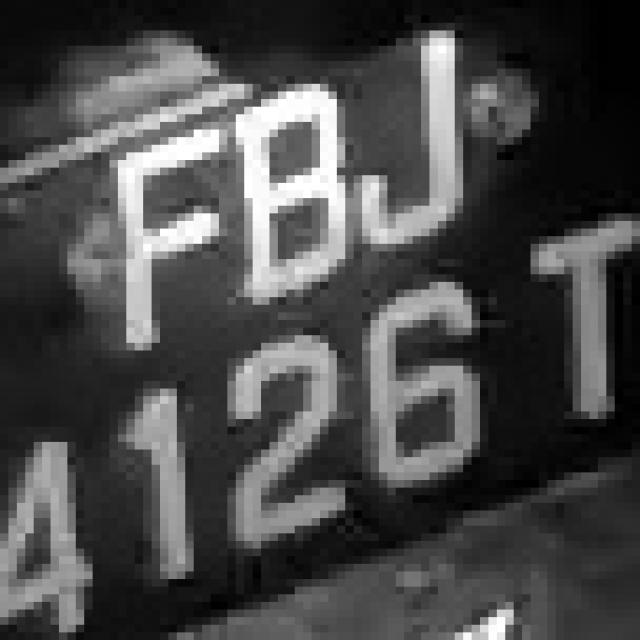1: (109, 358, 219, 602)
2: (211, 328, 345, 564)
4: (0, 404, 118, 632)
6: (354, 267, 497, 495)
B: (211, 69, 362, 328)
F: (101, 122, 227, 366)
J: (337, 31, 488, 259)
T: (505, 190, 632, 450)
